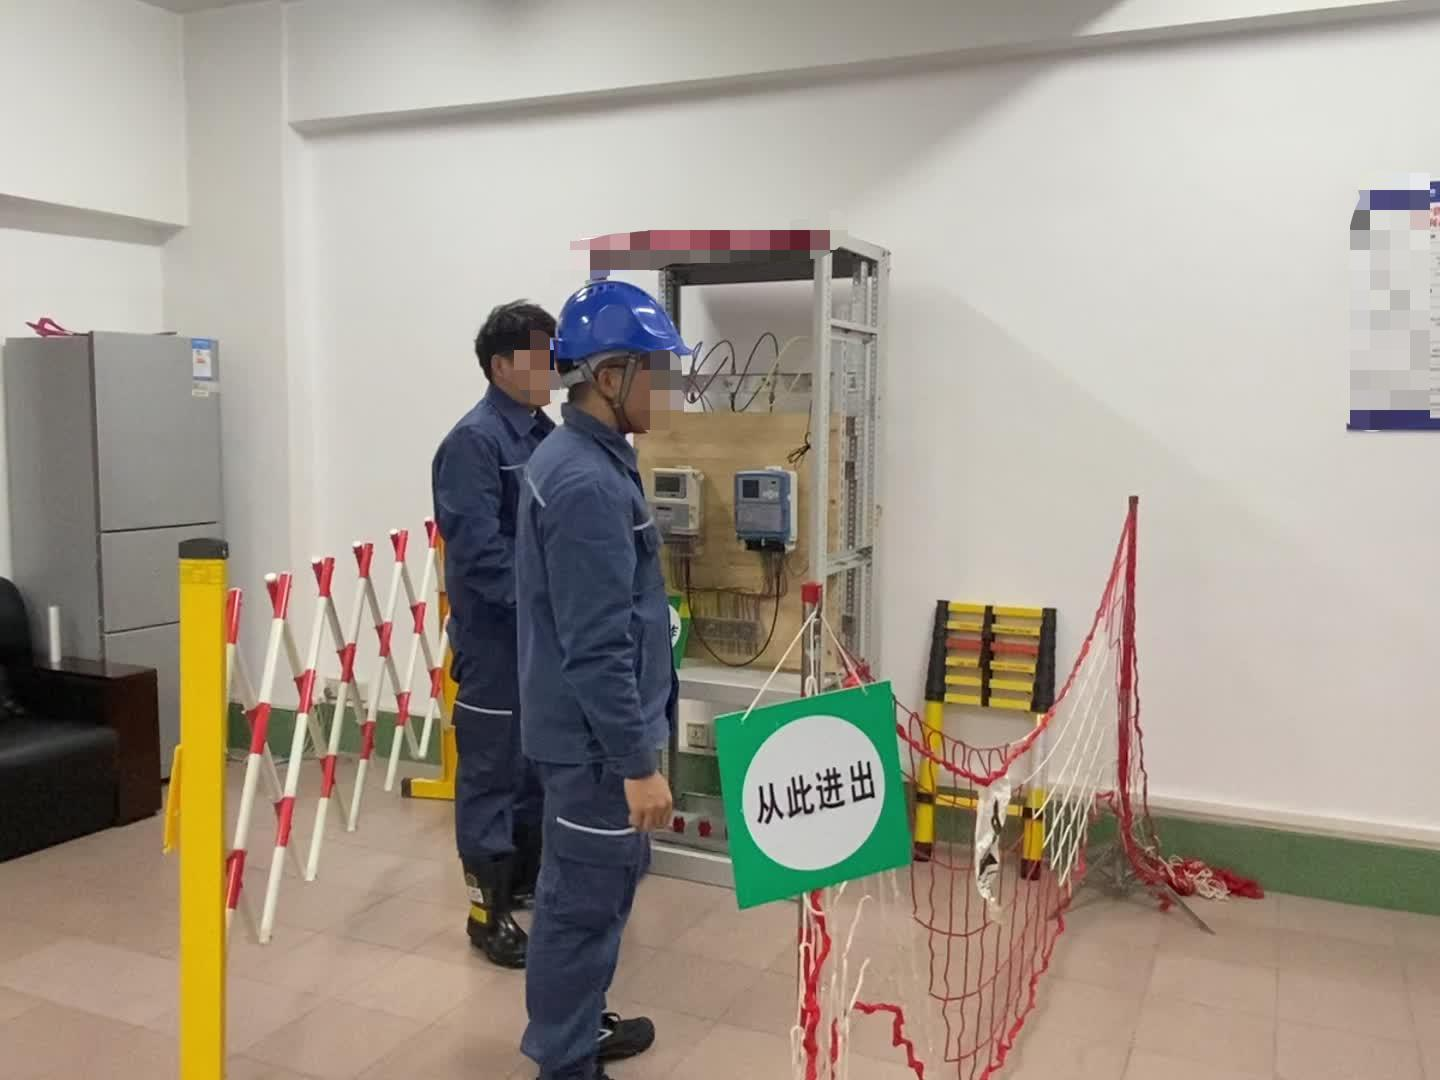halt: (554, 281, 696, 436)
inear: (584, 356, 642, 413)
noear: (485, 352, 527, 394)
unhalt: (475, 306, 565, 408)
